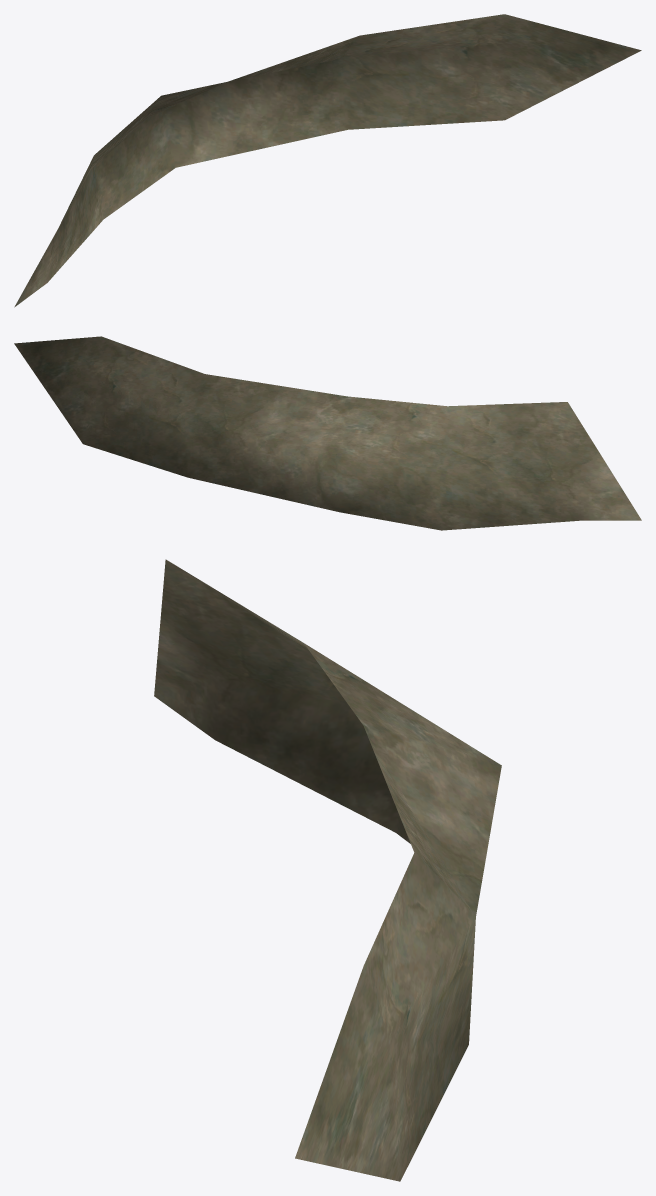
Rendered from OVERHILL_A_01_OBJECT152.fbx.
3 views of the same model, one above another, from view 1: azimuth 30°, elevation 25°; view 2: azimuth 150°, elevation 25°; view 3: azimuth 270°, elevation 25° (orthographic). The views are drawn at different scales.
Parts seen in each view (by area): view 1: OVERHILL_A_01_OBJECT152; view 2: OVERHILL_A_01_OBJECT152; view 3: OVERHILL_A_01_OBJECT152.
Boxes of the visible parts, left/top/right/bottom form: OVERHILL_A_01_OBJECT152: left=14, top=14, right=641, bottom=307; OVERHILL_A_01_OBJECT152: left=14, top=336, right=641, bottom=530; OVERHILL_A_01_OBJECT152: left=154, top=559, right=501, bottom=1181.
Bounding box in the file's own units: 77117 × 12845 × 19592.
Materials: 1 (1 with a texture image).
